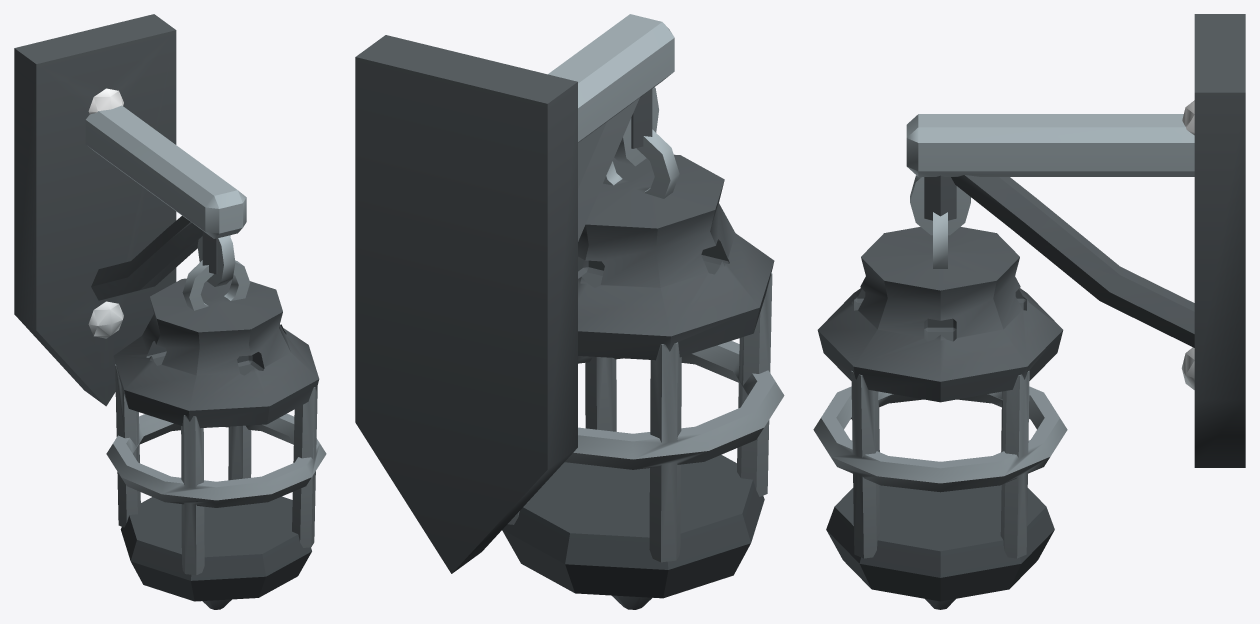
The model's file is mine_lantern_wall.glb.
3 views of the same model, side by side, from view 1: azimuth 30°, elevation 25°; view 2: azimuth 150°, elevation 25°; view 3: azimuth 270°, elevation 25° (orthographic). The views are drawn at different scales.
Parts seen in each view (by area): view 1: mine_lantern_wall; view 2: mine_lantern_wall; view 3: mine_lantern_wall.
Boxes of the visible parts, x1,y1,x2,y2 form: mine_lantern_wall: [14, 14, 326, 609]; mine_lantern_wall: [355, 14, 784, 609]; mine_lantern_wall: [813, 14, 1245, 609].
Bounding box in the file's own units: 0.6 × 1.44 × 1.02.
1 material, 1 textured.
